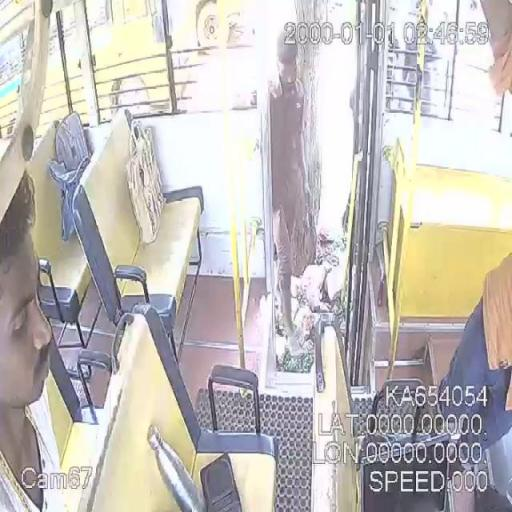persona: (1, 168, 68, 511), (436, 251, 512, 511), (266, 27, 318, 347)
